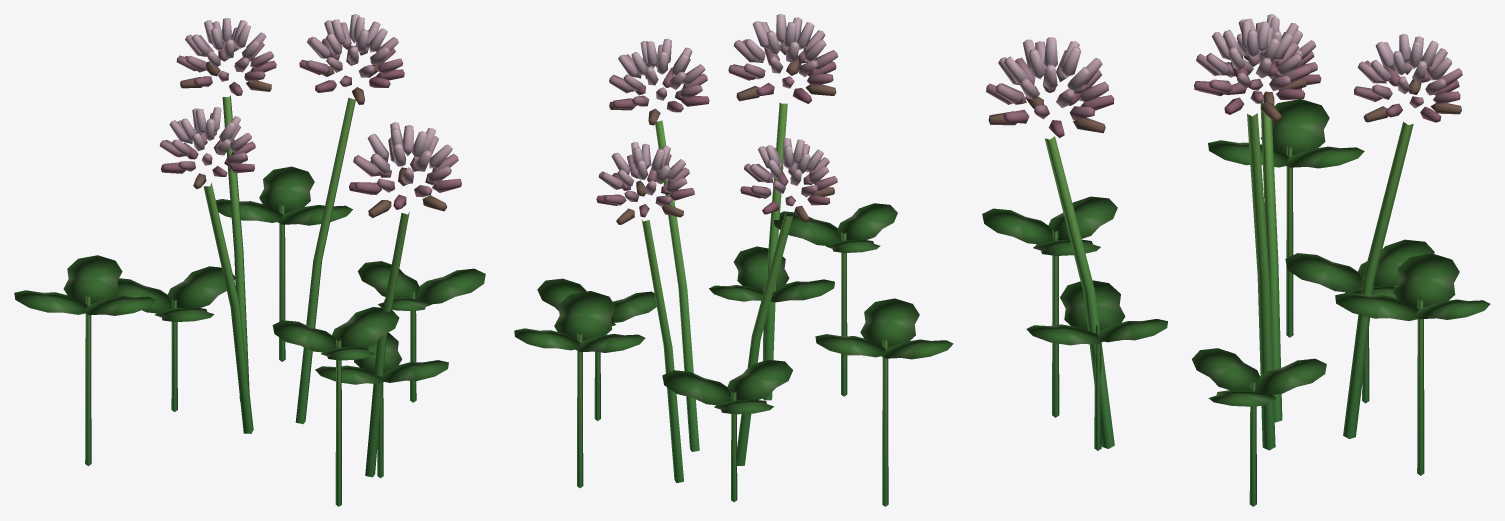
The model's file is clover_clump.glb.
3 renders of one model, left to right at view 1: azimuth 30°, elevation 25°; view 2: azimuth 150°, elevation 25°; view 3: azimuth 270°, elevation 25°, orthographic. The views are drawn at different scales.
Visible parts, largest first — view 1: clover_clump; view 2: clover_clump; view 3: clover_clump.
Part boxes in pixels (<box>): clover_clump: <box>14,14,485,506</box>; clover_clump: <box>514,14,953,506</box>; clover_clump: <box>982,14,1490,506</box>.
Size of the model in its own units: 0.0952 by 0.0822 by 0.0849.
